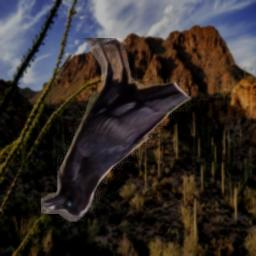Crow: (41, 38, 192, 223)
